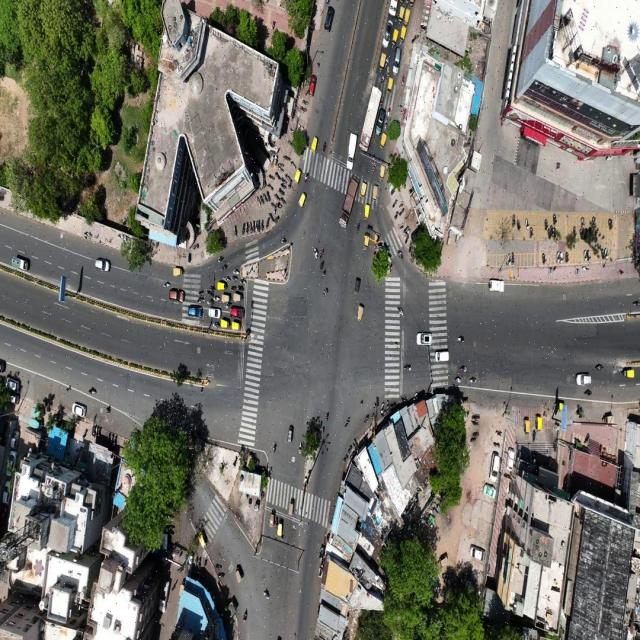3W: (352, 274, 363, 296), (297, 191, 307, 211), (522, 415, 531, 437), (356, 302, 365, 324), (287, 421, 294, 448), (621, 367, 636, 379), (234, 566, 243, 586), (535, 414, 544, 433), (359, 181, 368, 200), (310, 134, 318, 155), (379, 162, 386, 184), (287, 498, 295, 517), (378, 50, 385, 71), (371, 185, 379, 202), (198, 528, 204, 550), (173, 266, 185, 276), (215, 281, 227, 291), (380, 133, 387, 150), (269, 509, 274, 532), (405, 7, 411, 26), (295, 168, 302, 184), (231, 320, 241, 331), (392, 29, 398, 47), (364, 203, 370, 221), (278, 518, 283, 538), (219, 318, 229, 328), (400, 26, 405, 46), (233, 292, 242, 303), (220, 293, 230, 302), (364, 234, 370, 249), (388, 78, 393, 95), (400, 6, 404, 26)
Cars: (488, 449, 502, 484), (319, 6, 336, 34), (92, 252, 112, 275), (2, 478, 16, 508), (573, 366, 592, 388), (487, 276, 507, 296), (468, 543, 487, 562), (10, 254, 30, 272), (382, 18, 393, 47), (414, 331, 436, 345), (6, 451, 18, 476), (392, 47, 402, 76), (376, 108, 386, 137), (168, 288, 185, 304), (72, 401, 86, 419), (10, 428, 22, 448), (5, 375, 19, 391), (188, 305, 204, 318), (229, 305, 245, 318), (309, 71, 317, 97), (434, 349, 450, 361), (208, 307, 221, 318)
LCV: (342, 132, 358, 173)
M2W: (396, 302, 405, 318), (322, 284, 330, 302), (262, 589, 270, 605), (242, 610, 251, 623), (343, 413, 352, 426), (494, 427, 504, 438), (456, 332, 465, 344), (595, 360, 604, 372), (396, 249, 405, 261), (402, 363, 412, 373), (492, 440, 502, 450), (299, 96, 310, 105), (232, 224, 238, 240), (468, 375, 478, 384), (510, 252, 516, 266), (272, 442, 278, 456), (355, 221, 361, 235), (459, 362, 467, 372), (453, 377, 463, 385), (471, 411, 481, 419), (161, 280, 171, 288), (88, 388, 98, 396), (298, 441, 303, 456), (322, 270, 328, 282), (541, 250, 546, 264), (517, 218, 522, 232), (319, 259, 326, 269), (274, 171, 281, 181), (322, 140, 327, 154), (391, 194, 396, 208), (324, 411, 330, 422), (303, 172, 309, 183), (608, 217, 613, 230), (585, 388, 593, 396), (314, 246, 318, 262), (260, 218, 264, 234), (469, 437, 478, 444), (470, 429, 480, 435), (370, 163, 375, 175), (275, 514, 278, 533), (242, 220, 245, 239), (605, 244, 609, 258), (263, 190, 267, 204), (401, 74, 405, 88), (319, 246, 324, 257), (393, 210, 398, 221), (471, 420, 480, 426), (198, 288, 204, 297), (532, 429, 536, 442), (552, 212, 556, 225), (544, 217, 548, 230), (560, 251, 564, 264), (581, 216, 585, 229), (387, 104, 391, 117), (270, 213, 275, 223), (268, 174, 275, 181), (300, 106, 307, 113), (525, 217, 529, 229), (511, 214, 515, 226), (556, 249, 559, 265), (583, 250, 587, 262), (592, 216, 596, 228), (601, 244, 604, 260), (222, 276, 230, 282), (206, 290, 212, 298), (246, 221, 249, 237), (250, 220, 253, 236), (279, 238, 287, 244), (283, 155, 291, 161), (284, 173, 290, 181), (280, 197, 286, 205), (384, 118, 388, 130), (379, 96, 384, 105), (256, 196, 260, 207), (386, 57, 390, 68), (400, 222, 404, 233), (233, 270, 240, 276), (231, 275, 238, 281), (207, 300, 213, 307), (212, 321, 218, 328), (267, 183, 273, 190), (274, 193, 280, 200), (398, 200, 404, 207), (573, 224, 577, 234), (386, 68, 390, 78), (565, 251, 568, 264), (267, 217, 270, 230), (222, 264, 228, 270), (240, 278, 246, 284), (230, 284, 236, 290), (238, 286, 244, 292), (208, 284, 214, 290), (290, 162, 296, 168), (380, 74, 384, 83), (197, 298, 204, 303), (213, 296, 220, 301), (256, 219, 258, 236), (253, 220, 255, 236), (508, 251, 510, 266), (587, 250, 590, 260), (225, 302, 230, 308), (281, 183, 286, 189), (270, 202, 275, 208), (217, 257, 224, 261), (278, 164, 284, 168), (288, 139, 292, 145), (409, 241, 411, 253)
Truck: (358, 82, 382, 156), (336, 173, 359, 231)
